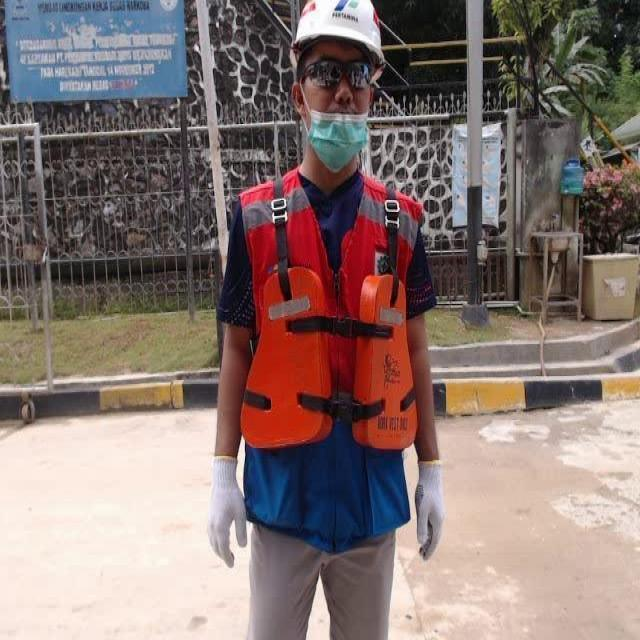person_with_helmet: (279, 0, 418, 59)
person_with_vest: (230, 165, 427, 487)
